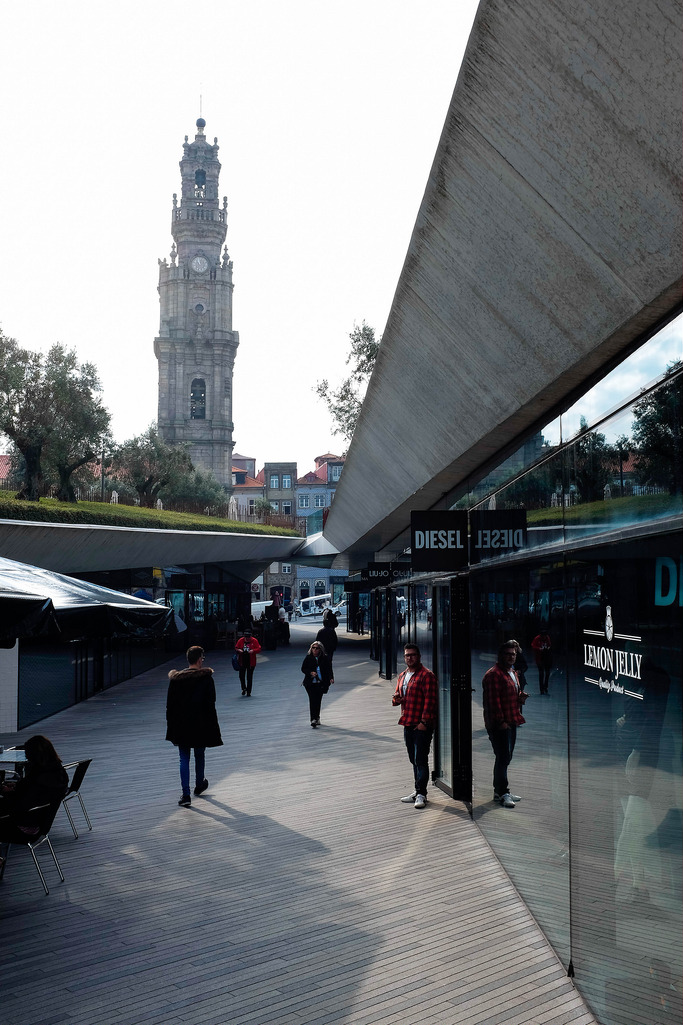clerigos: (152, 96, 238, 504)
